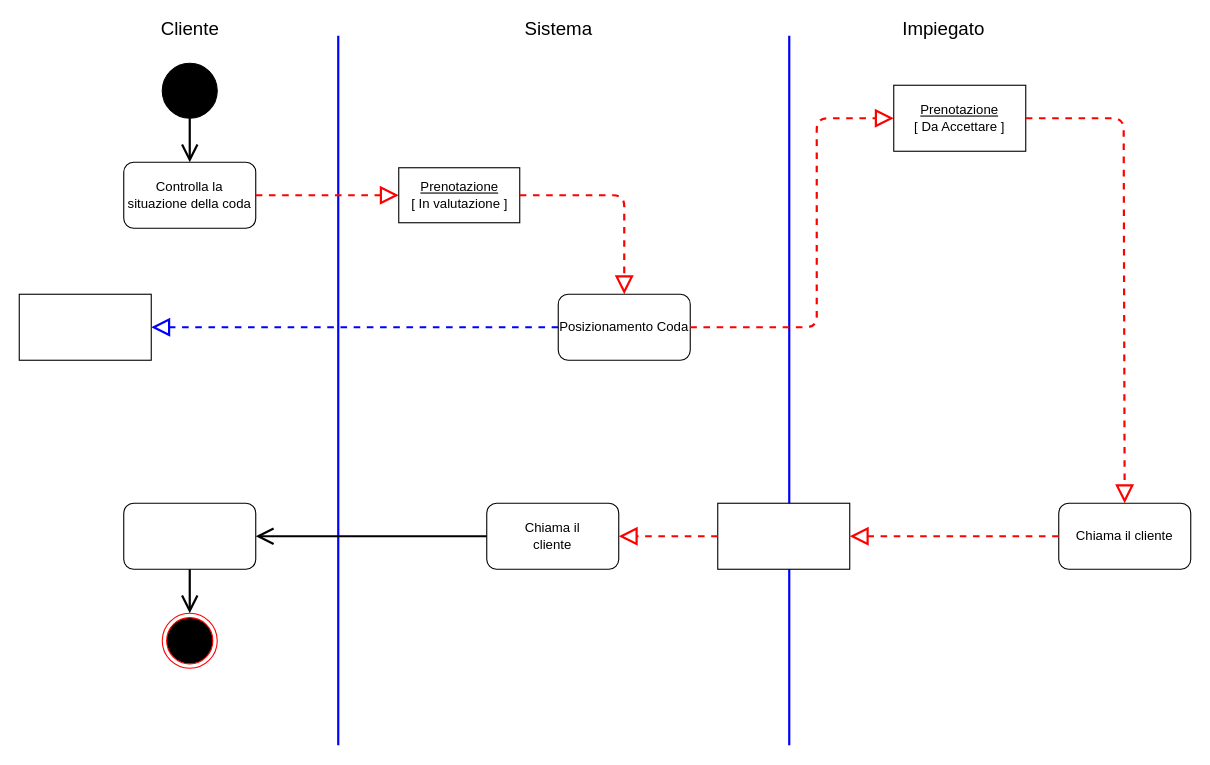
Image size: 1210x765. Some labels were removed from this diagram. Each missing label, with the centre of its shape:
Biglietto Prenotazione: point 84,326
Prenotazione [ Eseguita ]: point 783,535
Viene servito: point 189,535
